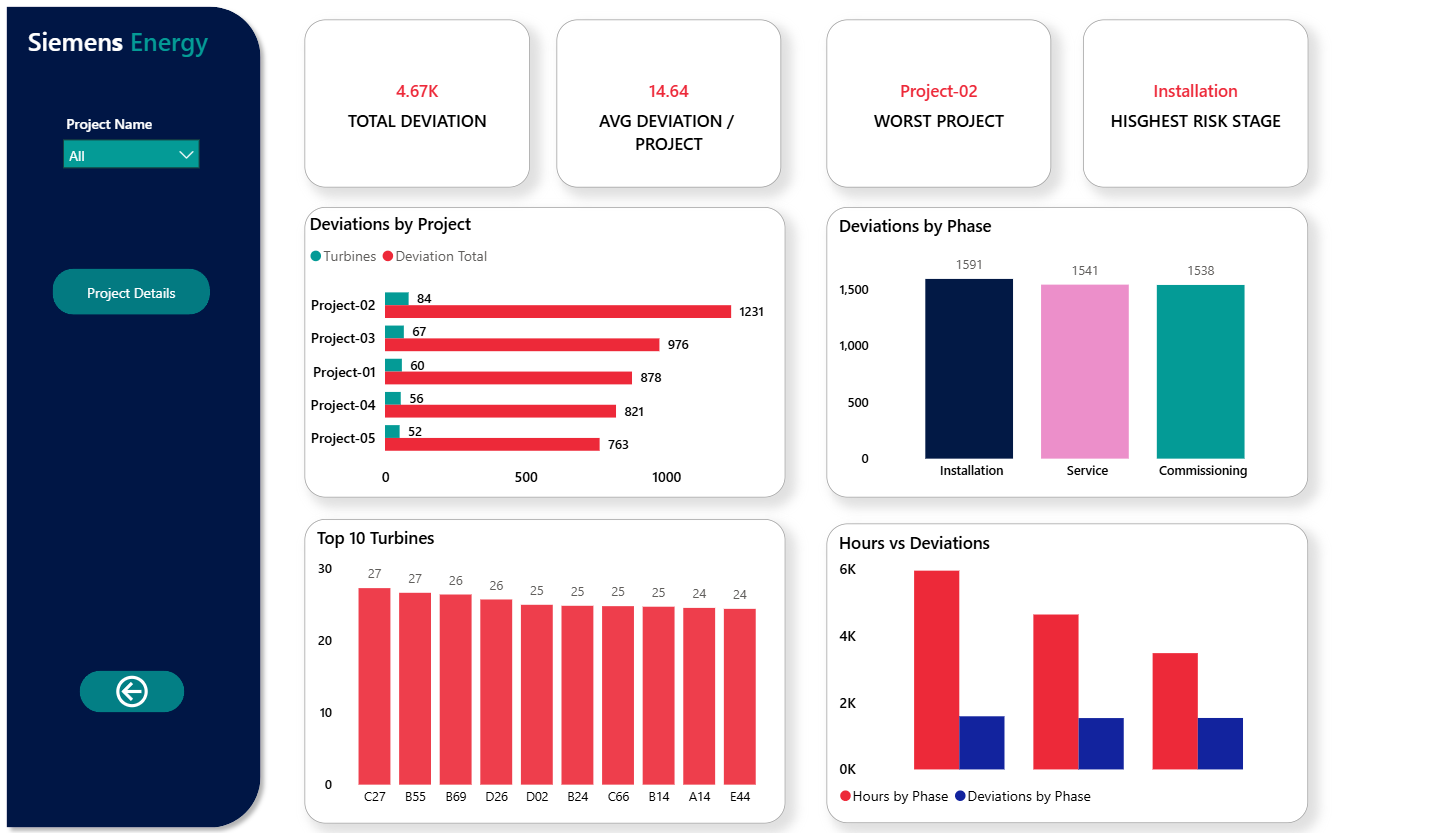

What the dashboard file says about the page in this screenshot:
{"tool":"powerbi","page":{"name":"Risk & Performance","canvas":[1400,800],"ordinal":4},"visuals":[{"type":"card","fields":{"Values":["_Measure.Deviation Total"]},"box":[293.4,21.3,214.4,160],"z":0},{"type":"card","fields":{"Values":["_Measure.Worst Project"]},"box":[790.3,21.3,214,160],"z":1000},{"type":"card","fields":{"Values":["_Measure.Avg Deviation per Turbine"]},"box":[532.3,21.3,214,160],"z":2000},{"type":"card","fields":{"Values":["_Measure.Highest Risk Stage"]},"box":[1034.8,21.3,214.4,160],"z":3000},{"type":"card","fields":{"Values":["_Measure.Health Failure Rate %"]},"box":[1530.2,157.1,212.7,101.6],"z":4000},{"type":"clusteredBarChart","title":"Deviations by Project","fields":{"Category":["Mapping_Projects.Project_Name"],"Y":["Sum(Mapping_Projects.Number_Of_Turbines)","_Measure.Deviation Total"]},"box":[293.4,200.4,457.8,276.7],"z":5000},{"type":"clusteredColumnChart","title":"Deviations by Phase","fields":{"Category":["Phase.Phase"],"Y":["_Measure.Deviations by Phase"]},"box":[790.3,200.4,458.9,276.7],"z":6000},{"type":"shape","box":[0,0,260,800],"z":7000},{"type":"textbox","box":[24.6,20.3,215.9,59.4],"z":8000},{"type":"slicer","fields":{"Values":["Mapping_Projects.Project_Name","Mapping_Turbines.Turbine_ID"]},"box":[52.9,105.7,150,70],"z":9000},{"type":"clusteredColumnChart","title":"Top 10 Turbines","fields":{"Category":["Mapping_Turbines.Turbine_ID"],"Y":["_Measure.Deviation Total"]},"box":[293.4,496.9,457.8,290],"z":10000},{"type":"pageNavigator","box":[52.9,258.6,150,44.3],"z":11000},{"type":"actionButton","box":[78.6,641.4,100,40],"z":12000},{"type":"clusteredColumnChart","title":"Hours vs Deviations","fields":{"Y":["_Measure.Hours by Phase","_Measure.Deviations by Phase"],"Category":["Phase.Phase"]},"box":[790.3,501.3,458.9,285.6],"z":13000}]}

Visuals, with their boxes in screenshot pixels (x1, y1, x2, y2), scaled from the page's 1400x800 canvas onto the 1454x833 screenshot:
card - _Measure.Deviation Total: l=305, t=22, r=527, b=189
card - _Measure.Worst Project: l=821, t=22, r=1043, b=189
card - _Measure.Avg Deviation per Turbine: l=553, t=22, r=775, b=189
card - _Measure.Highest Risk Stage: l=1075, t=22, r=1297, b=189
"Deviations by Project" clusteredBarChart: l=305, t=209, r=780, b=497
"Deviations by Phase" clusteredColumnChart: l=821, t=209, r=1297, b=497
shape: l=0, t=0, r=270, b=832
textbox: l=26, t=21, r=250, b=83
slicer - Mapping_Projects.Project_Name x Mapping_Turbines.Turbine_ID: l=55, t=110, r=211, b=183
"Top 10 Turbines" clusteredColumnChart: l=305, t=517, r=780, b=819
pageNavigator: l=55, t=269, r=211, b=315
actionButton: l=82, t=668, r=185, b=710
"Hours vs Deviations" clusteredColumnChart: l=821, t=522, r=1297, b=819
